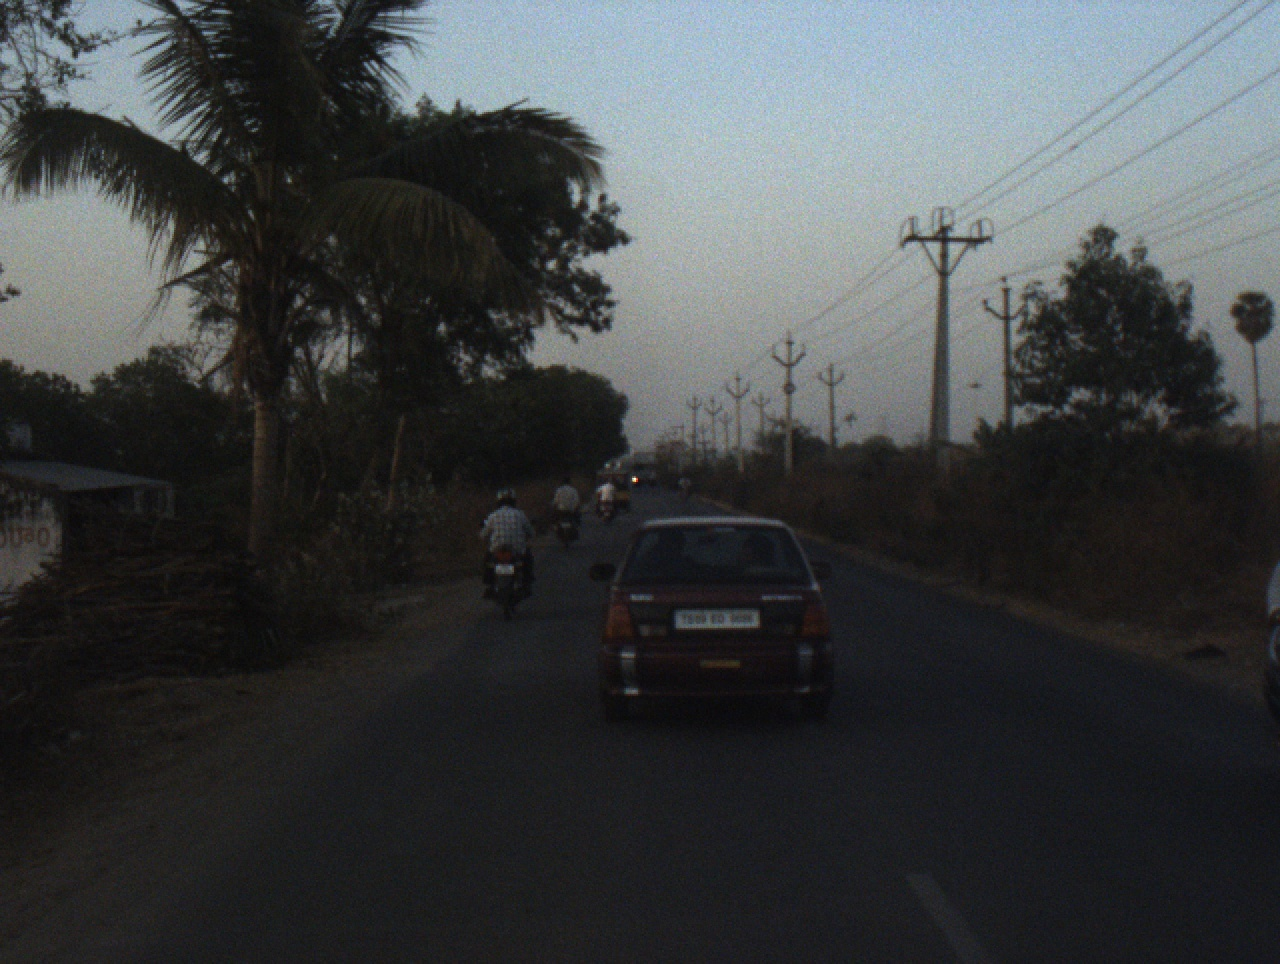autorickshaw: (593, 457, 631, 512)
car: (584, 509, 845, 732)
motorcycle: (471, 511, 546, 626), (555, 508, 583, 555), (598, 500, 620, 527), (675, 488, 694, 507)
rider: (475, 488, 538, 597), (552, 476, 582, 534), (596, 476, 619, 515), (676, 472, 693, 497)
truck: (631, 450, 661, 488)
